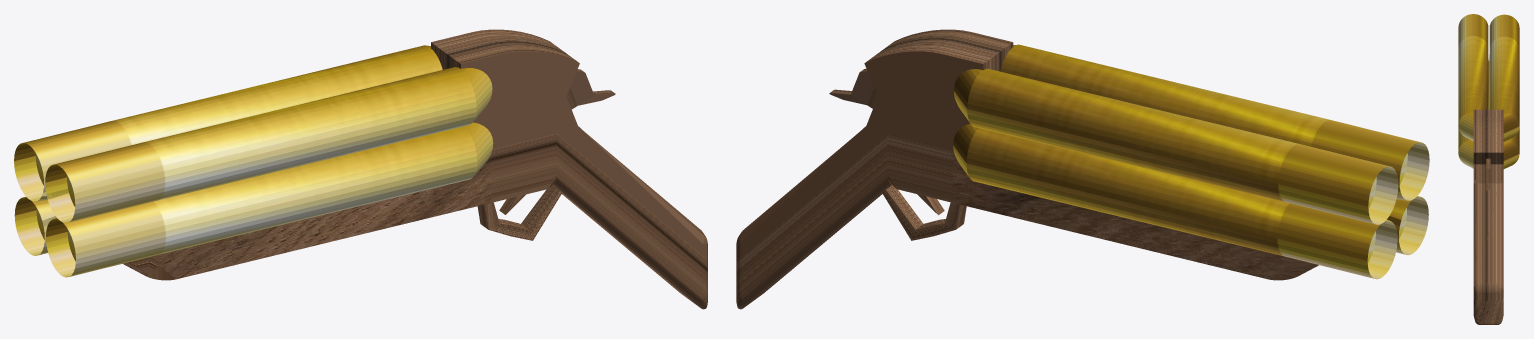
File: SHOTTY.fbx
The picture shows the model from 3 angles, left to right: view 1: azimuth 30°, elevation 25°; view 2: azimuth 150°, elevation 25°; view 3: azimuth 270°, elevation 25°; orthographic projection. The views are drawn at different scales.
Visible parts, largest first — view 1: Cylinder, Cube; view 2: Cylinder, Cube; view 3: Cylinder, Cube.
Part boxes in pixels (x1=…): Cylinder: x1=14, y1=45, x2=493, y2=277; Cube: x1=123, y1=29, x2=707, y2=309; Cylinder: x1=953, y1=44, x2=1429, y2=279; Cube: x1=736, y1=29, x2=1318, y2=309; Cylinder: x1=1458, y1=14, x2=1519, y2=168; Cube: x1=1473, y1=61, x2=1503, y2=324.
Bounding box in the file's own units: 2503 × 1135 × 407.
